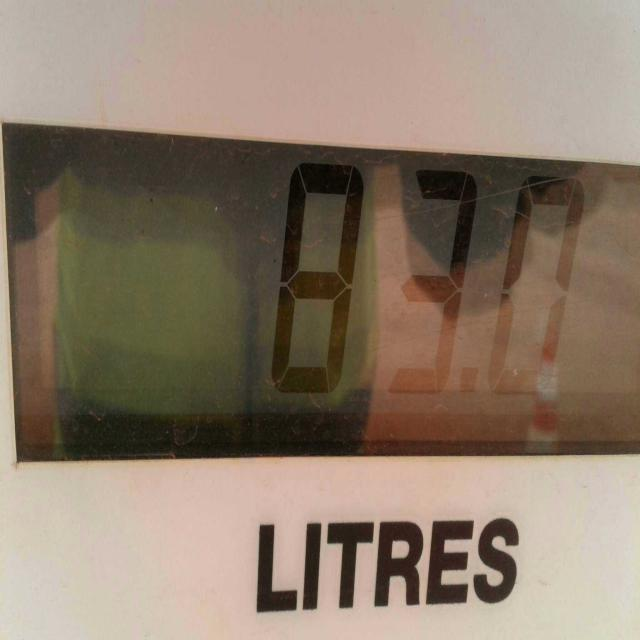.: (464, 363, 482, 391)
0: (493, 175, 582, 401)
3: (393, 174, 466, 402)
8: (278, 157, 366, 401)
